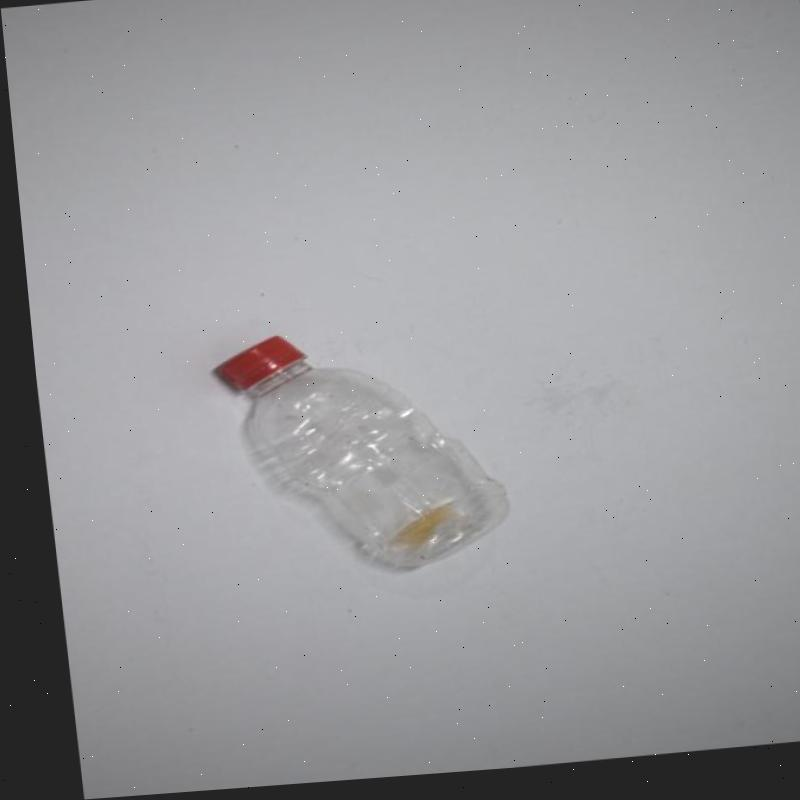botella: (195, 322, 508, 593)
